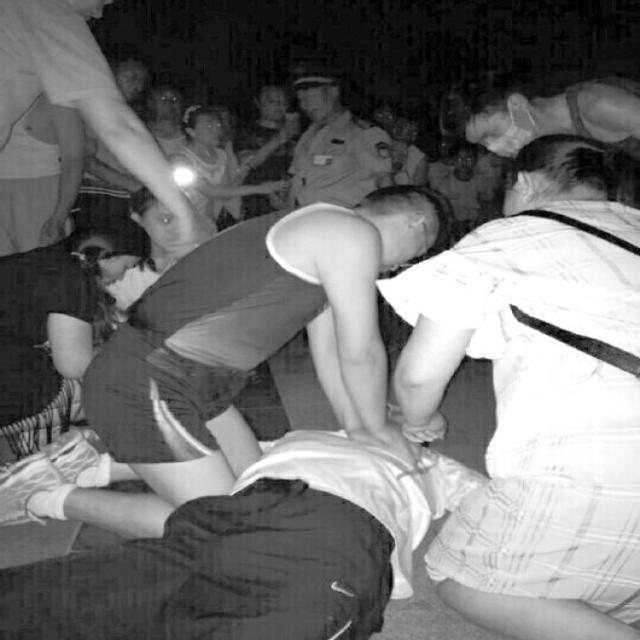10-: (1, 0, 639, 631)
down: (49, 398, 474, 639)
